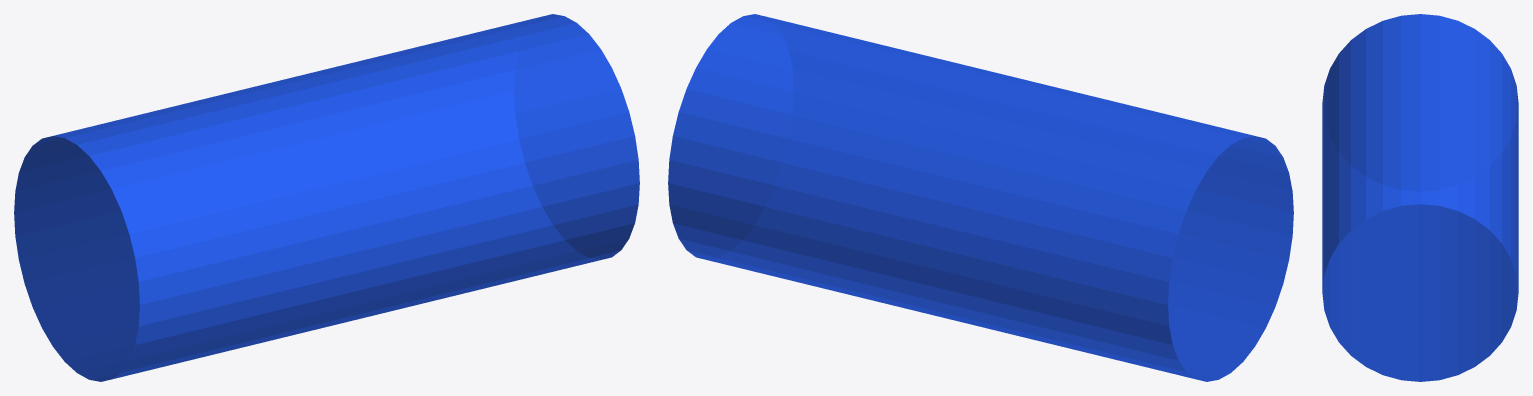
File: Measure.obj
The picture shows the model from 3 angles, left to right: view 1: azimuth 30°, elevation 25°; view 2: azimuth 150°, elevation 25°; view 3: azimuth 270°, elevation 25°; orthographic projection. The views are drawn at different scales.
Parts seen in each view (by area): view 1: Cylinder; view 2: Cylinder; view 3: Cylinder.
Part boxes in pixels (<box>): Cylinder: <box>14,14,639,381</box>; Cylinder: <box>668,14,1293,381</box>; Cylinder: <box>1322,14,1518,381</box>.
Size of the model in its own units: 2 by 0.8721 by 0.8721.
